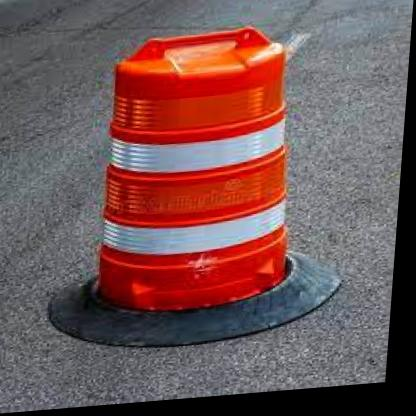obstacle: (94, 27, 319, 327)
